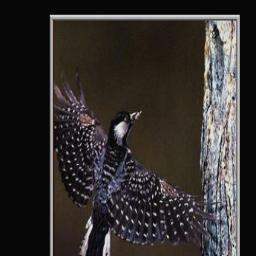Woodpecker: (53, 72, 220, 256)
